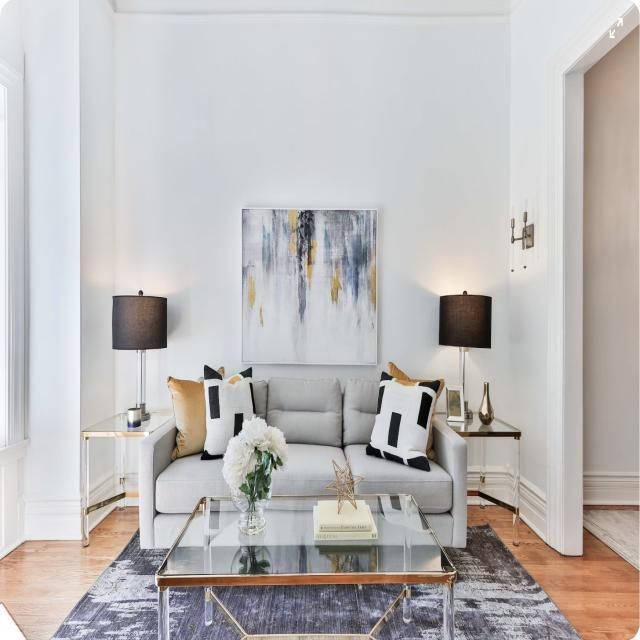book: (314, 494, 378, 542)
flower: (226, 416, 280, 537)
lamp: (110, 284, 170, 430), (436, 288, 496, 430)
picture: (241, 202, 378, 366)
pillow: (374, 360, 434, 473), (204, 362, 258, 459), (169, 374, 204, 454)
sofa: (145, 374, 467, 553)
table: (165, 503, 450, 640), (81, 405, 158, 541)
